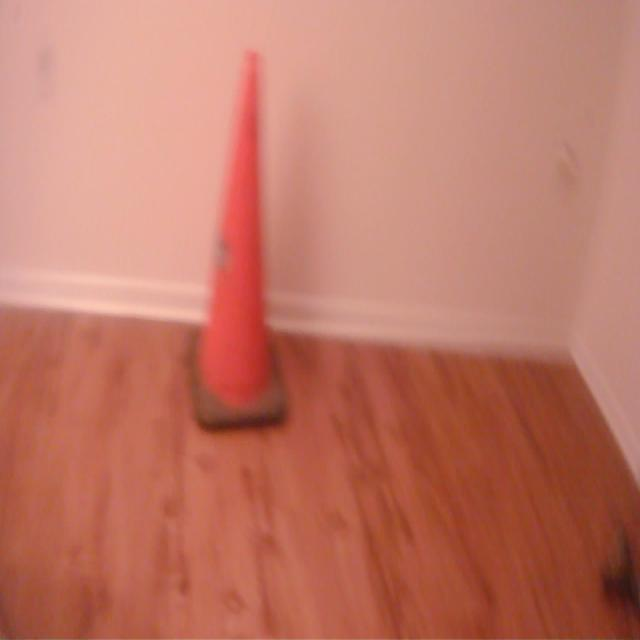traffic cone: (181, 46, 301, 441)
